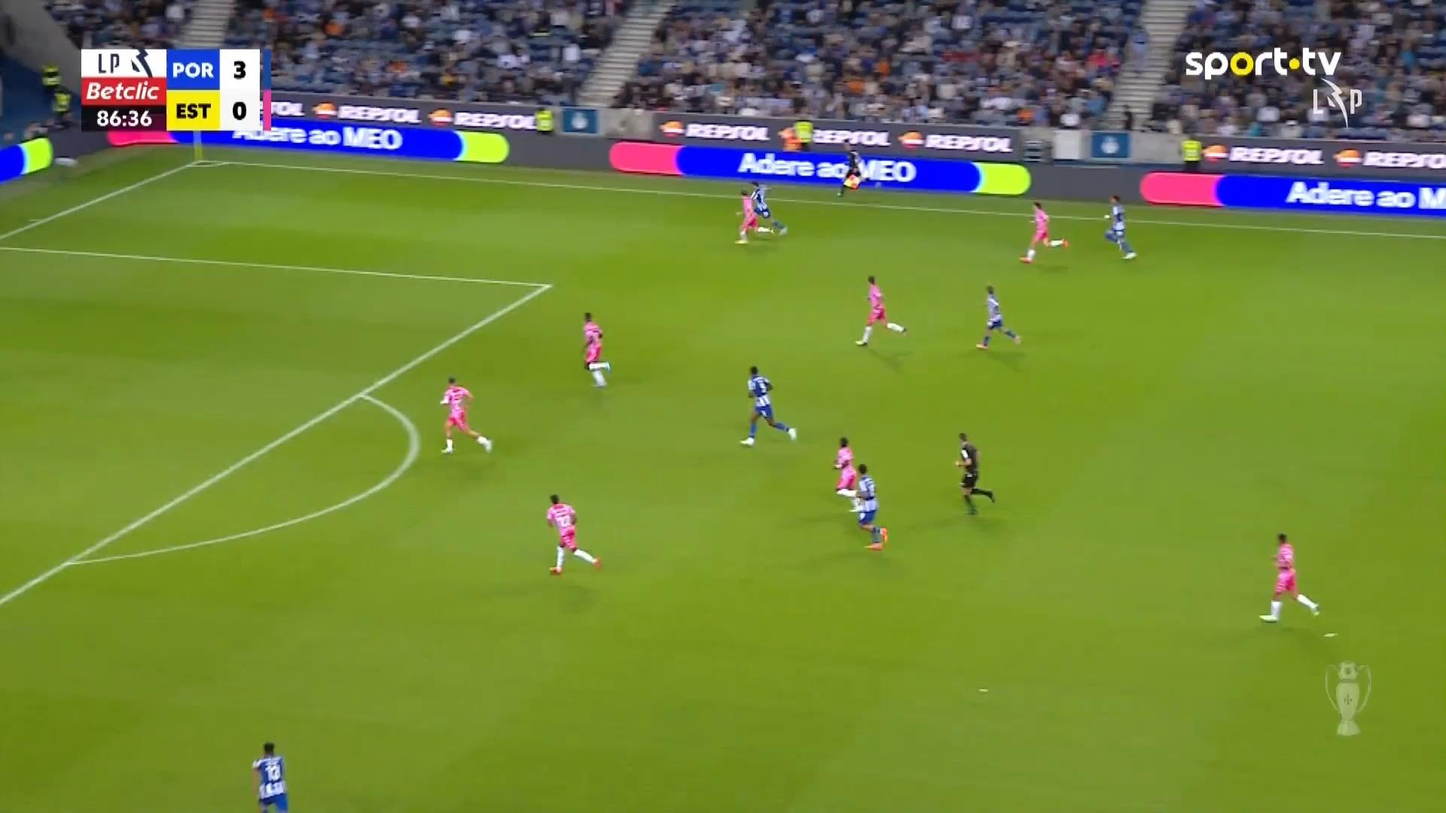ball: (1103, 215, 1110, 219)
player: (1258, 531, 1320, 622), (739, 365, 797, 446), (545, 492, 601, 575), (438, 376, 493, 454), (854, 274, 907, 346), (850, 462, 888, 549), (1019, 199, 1068, 263), (975, 284, 1021, 349), (252, 741, 289, 811), (831, 435, 862, 511), (580, 311, 611, 386), (1103, 193, 1137, 260), (734, 190, 775, 244), (751, 179, 790, 233)
referee: (953, 431, 995, 515), (836, 138, 867, 196)
